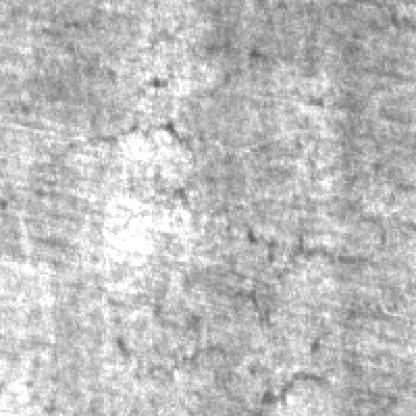crazing: (108, 289, 402, 412), (162, 204, 406, 333), (38, 85, 208, 227)
